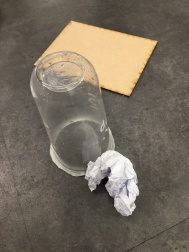paper_white: (85, 149, 147, 219)
